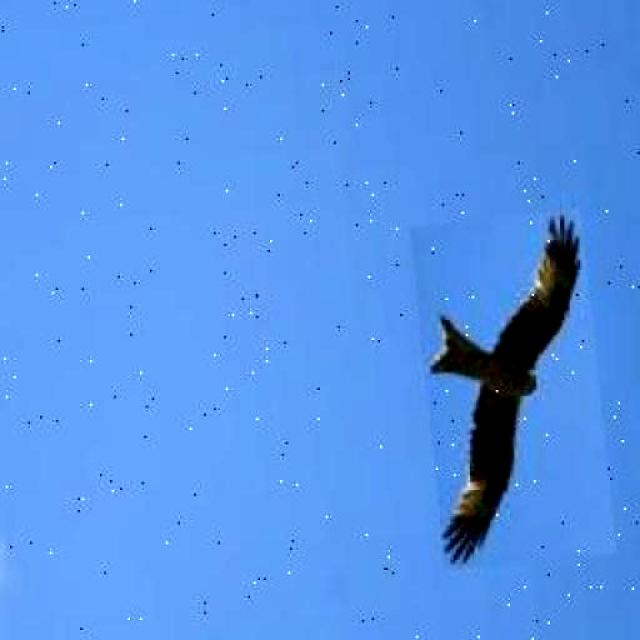airplane: (408, 208, 615, 570)
